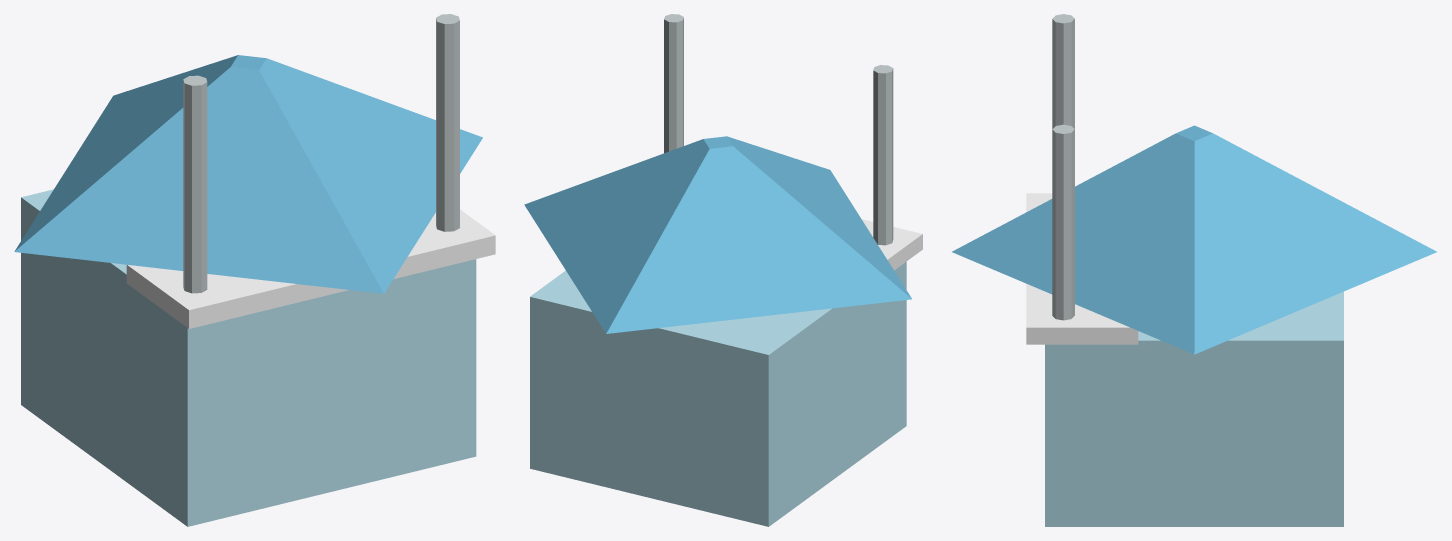
The model's file is Kiosco.fbx.
3 views of the same model, side by side, from view 1: azimuth 30°, elevation 25°; view 2: azimuth 150°, elevation 25°; view 3: azimuth 270°, elevation 25° (orthographic). The views are drawn at different scales.
Parts seen in each view (by area): view 1: Kiosco; view 2: Kiosco; view 3: Kiosco.
Part boxes in pixels (x1,y1,x2,y2): Kiosco: (14,14,495,526); Kiosco: (524,14,922,526); Kiosco: (952,14,1436,526).
Size of the model in its own units: 130 by 115 by 130.
